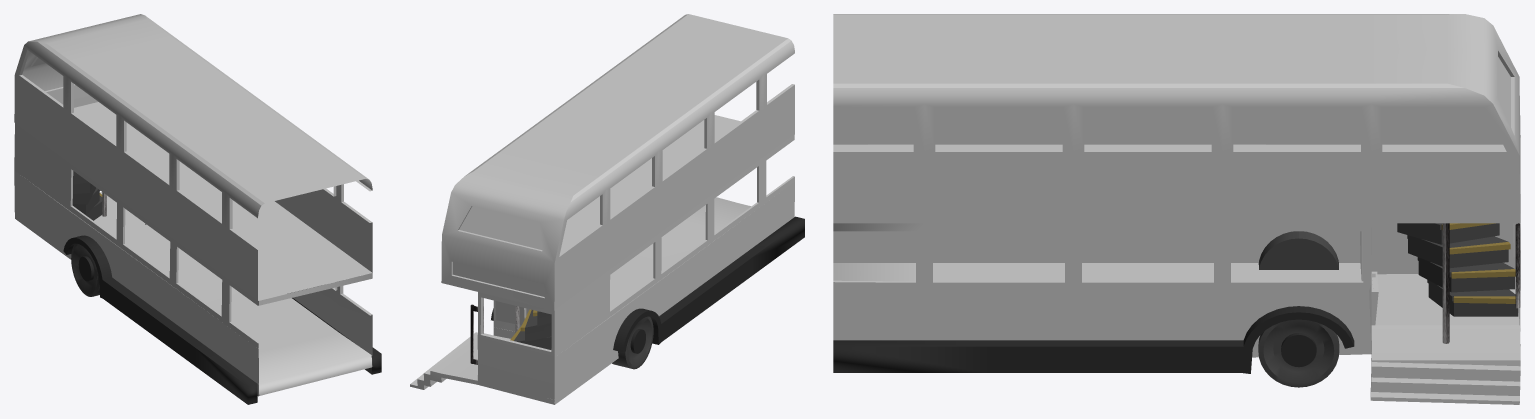
The model's file is busCUT2.fbx.
3 renders of one model, left to right at view 1: azimuth 30°, elevation 25°; view 2: azimuth 150°, elevation 25°; view 3: azimuth 270°, elevation 25°, orthographic. The views are drawn at different scales.
Parts seen in each view (by area): view 1: Cube.002; view 2: Cube.002; view 3: Cube.002.
Boxes of the visible parts, bbox=[...] form: Cube.002: bbox=[14, 14, 381, 404]; Cube.002: bbox=[410, 14, 804, 404]; Cube.002: bbox=[833, 14, 1520, 404].
Bounding box in the file's own units: 342 × 436 × 922.
